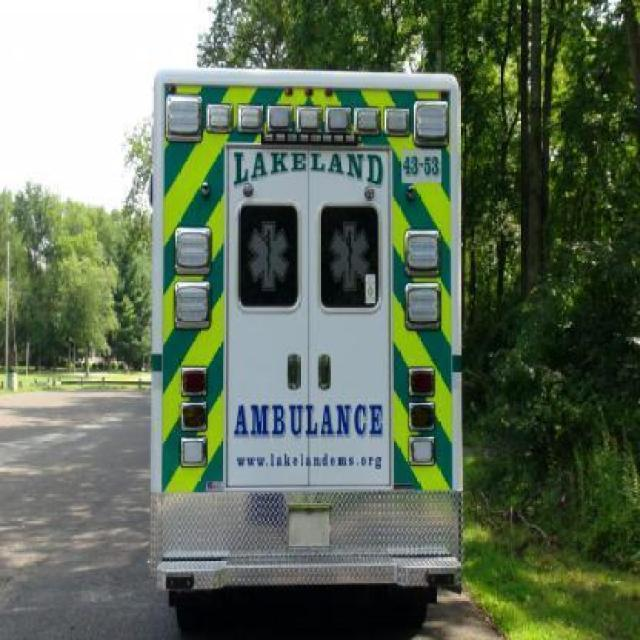emergency: (146, 63, 466, 632)
